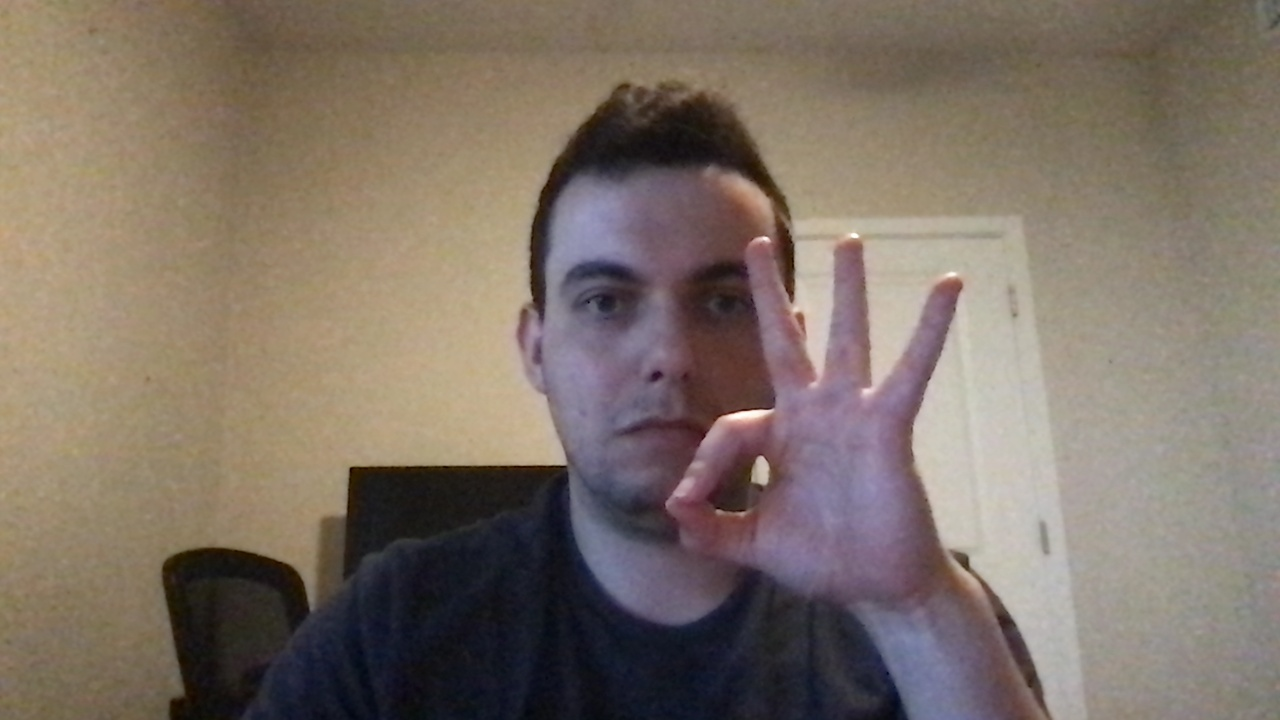f: (664, 222, 958, 622)
